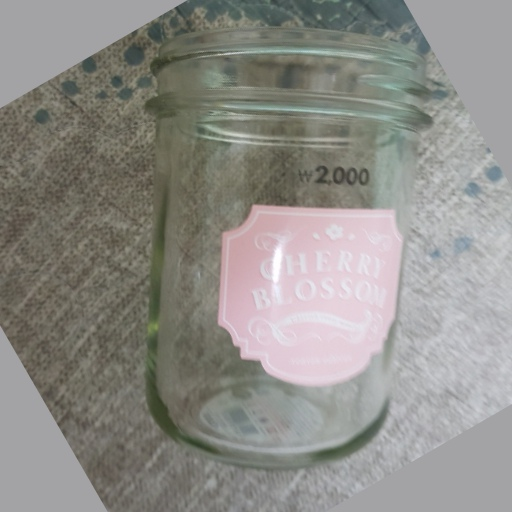Glass_5: (140, 34, 432, 467)
